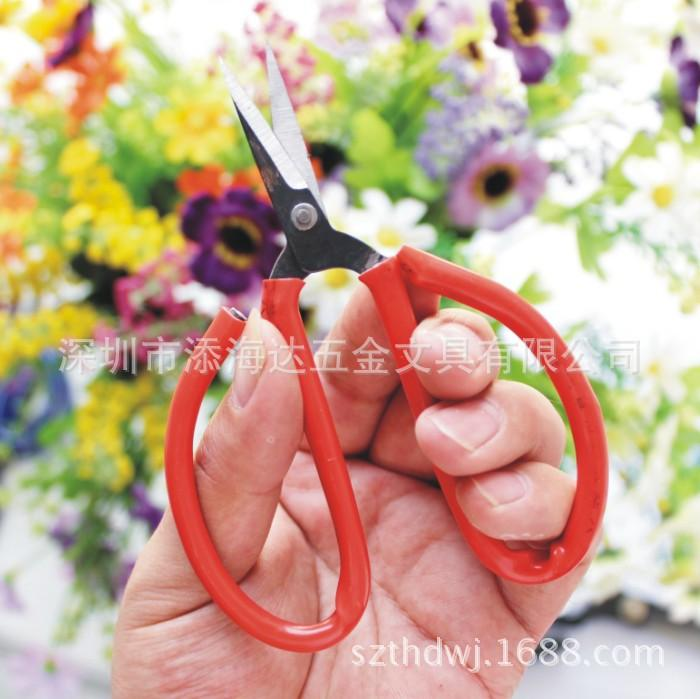scissor: (113, 111, 637, 650)
